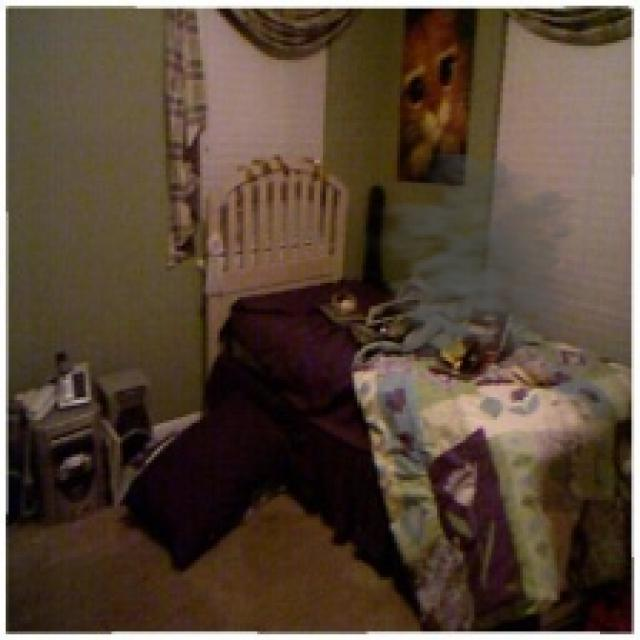Smoke: (363, 154, 603, 374)
